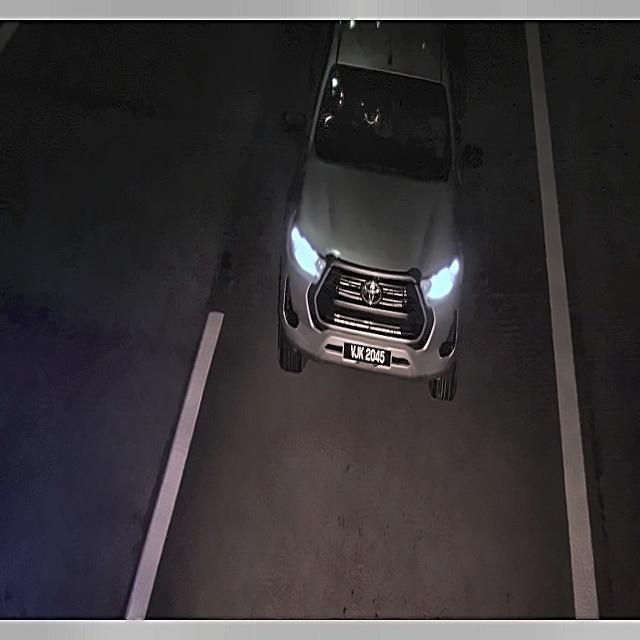car: (341, 337, 392, 373)
